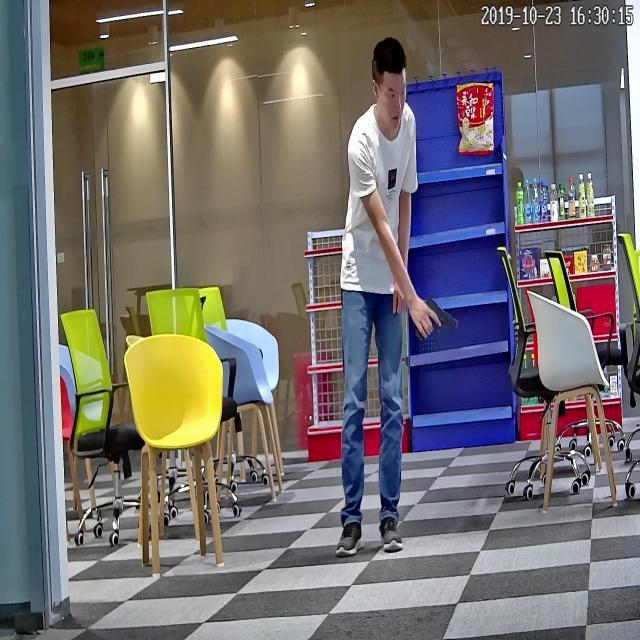gun-knife-thesis - v11 Yolov5 augmented: (418, 293, 462, 348)
